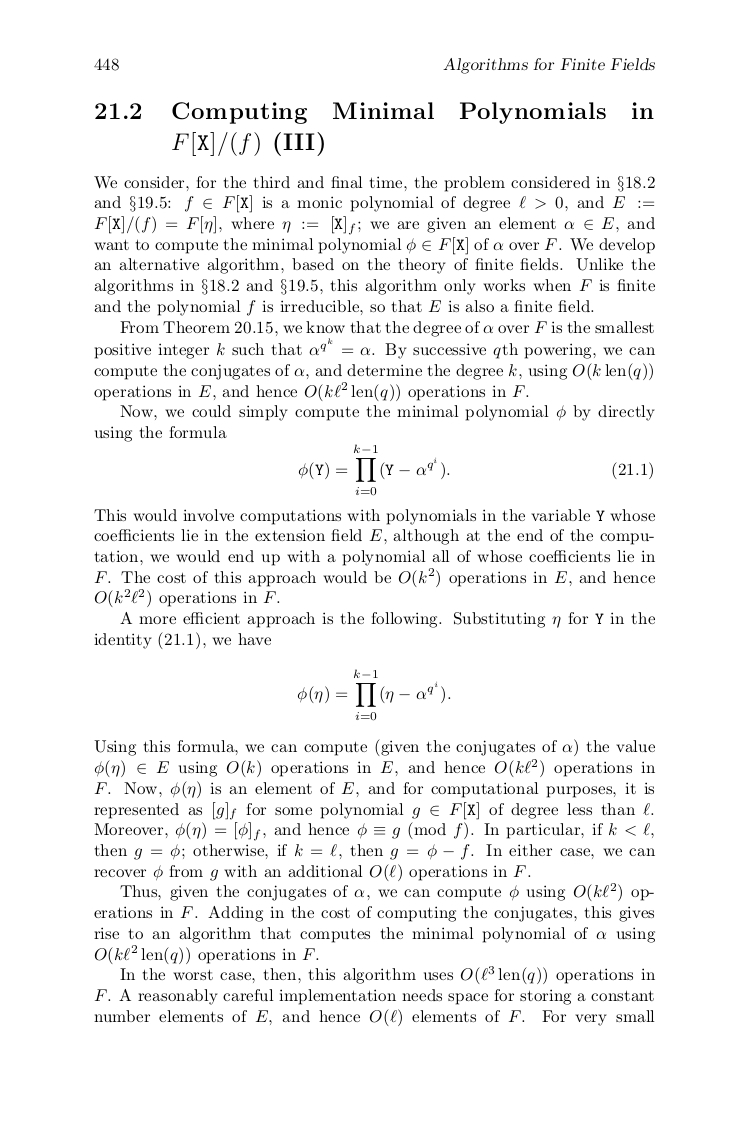formula: (298, 444, 652, 495), (297, 669, 450, 720)
